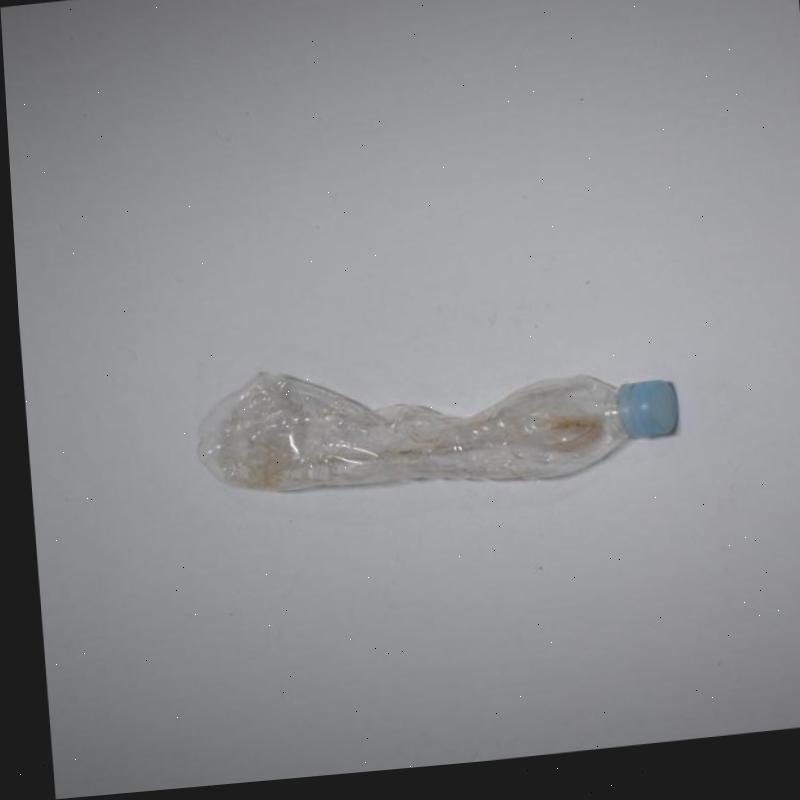botella: (189, 341, 677, 519)
